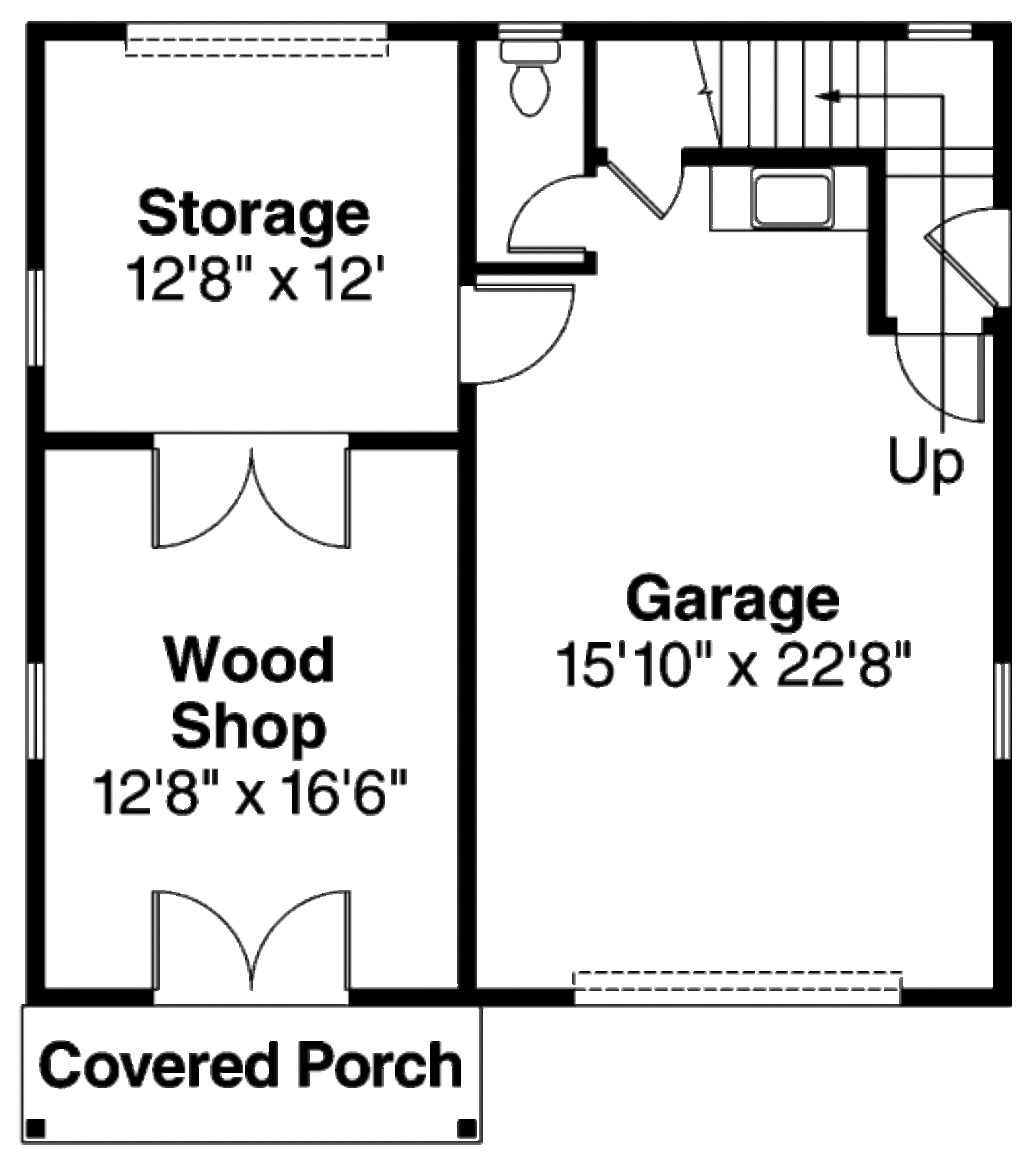door: (146, 885, 358, 1010), (148, 435, 357, 555), (457, 274, 574, 393), (921, 204, 1010, 322), (899, 335, 976, 426), (601, 144, 692, 217), (510, 176, 591, 242)
large_sink: (503, 24, 566, 131)
stairs: (691, 38, 998, 187)
window: (125, 22, 380, 51), (573, 976, 903, 997), (989, 658, 1014, 753), (26, 663, 49, 763), (901, 22, 982, 40), (33, 267, 48, 363)
